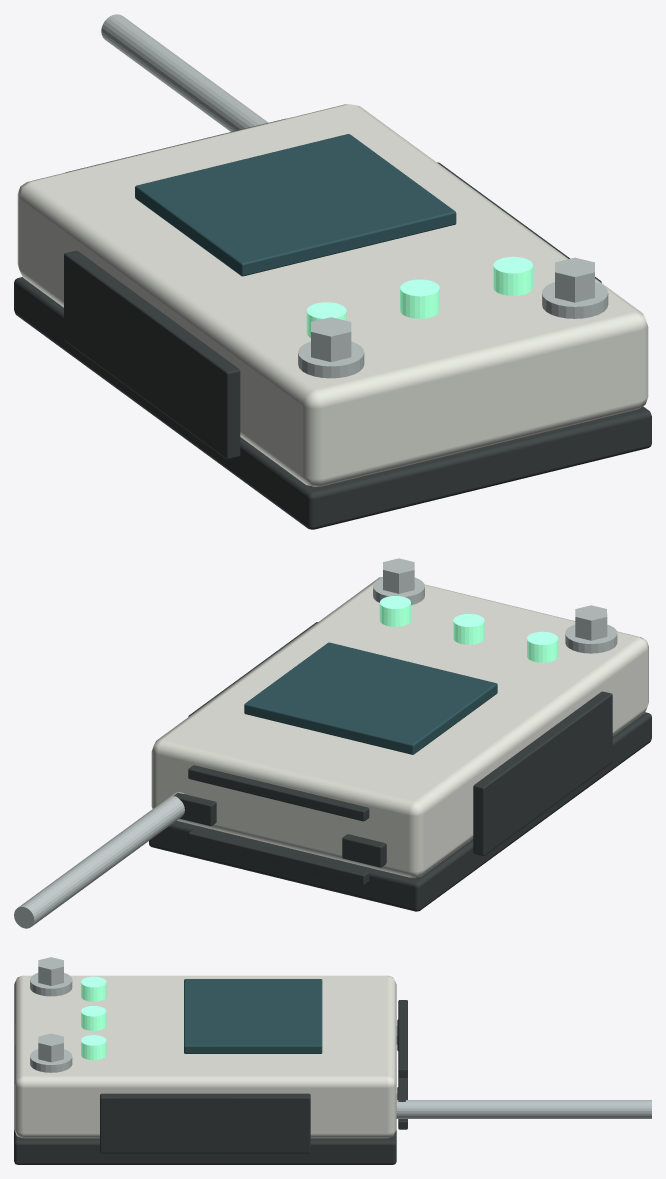
File: generation-ship-hydroponics-generation-ship-hydroponic-b1b0e91c__31485.glb
The picture shows the model from 3 angles, top to bottom: view 1: azimuth 30°, elevation 25°; view 2: azimuth 150°, elevation 25°; view 3: azimuth 270°, elevation 25°; orthographic projection. The views are drawn at different scales.
Parts seen in each view (by area): view 1: generation-ship-hydroponics-conductivity-meter; view 2: generation-ship-hydroponics-conductivity-meter; view 3: generation-ship-hydroponics-conductivity-meter.
Part boxes in pixels (x1,y1,x2,y2): generation-ship-hydroponics-conductivity-meter: [14, 14, 651, 529]; generation-ship-hydroponics-conductivity-meter: [14, 558, 651, 928]; generation-ship-hydroponics-conductivity-meter: [14, 957, 651, 1164].
Bounding box in the file's own units: 0.262 × 0.115 × 0.6.
